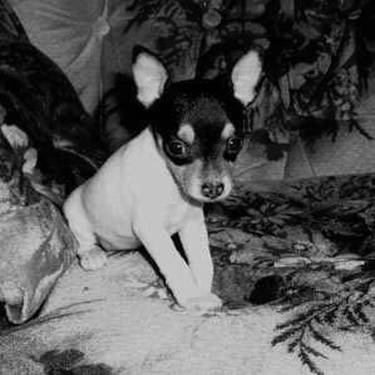dog: (45, 36, 263, 315)
